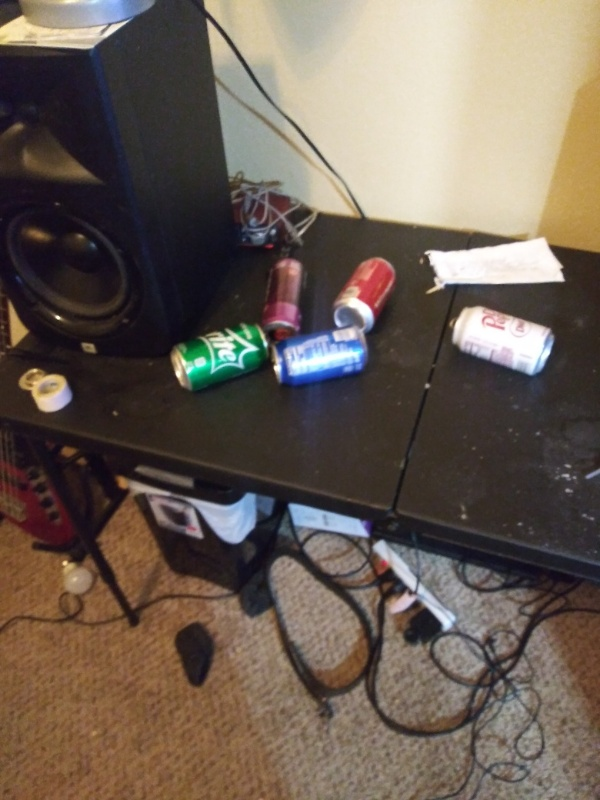can: (444, 303, 558, 379), (167, 320, 272, 396), (267, 322, 371, 396), (329, 256, 399, 336), (261, 255, 311, 339)
